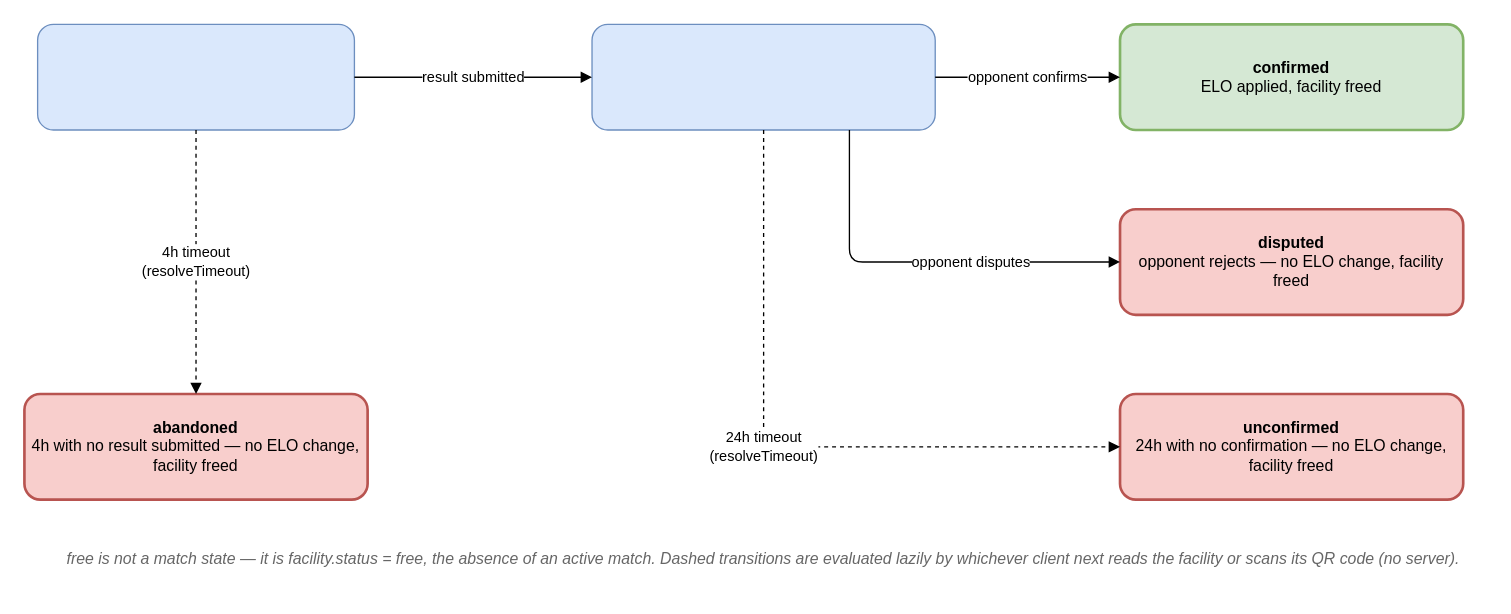
Image size: 1511x614. Some labels were removed from this diagram. The centre of each missing label's shape, as x and y in pixels:
awaitingConfirmation one side submitted a result: the point at 763,76
occupied check-in complete, game in progress: the point at 195,76
